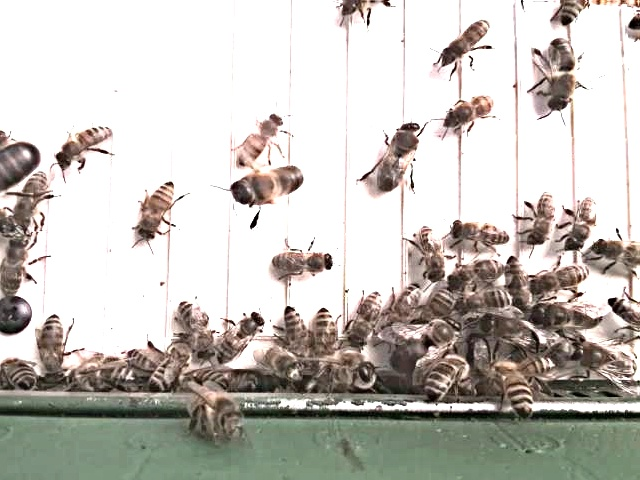Drone: (391, 312, 463, 376), (374, 115, 424, 195), (229, 160, 310, 208), (539, 33, 583, 113), (569, 335, 640, 377), (530, 297, 606, 332)
Worker: (57, 119, 118, 168), (236, 107, 286, 166), (220, 308, 268, 363), (138, 175, 178, 240), (176, 297, 218, 357), (494, 356, 535, 416), (443, 15, 494, 63), (348, 285, 385, 348), (449, 213, 510, 250), (413, 222, 449, 283), (566, 192, 601, 254), (442, 90, 498, 128), (590, 229, 640, 271), (530, 260, 594, 292), (282, 301, 314, 365), (0, 233, 32, 297), (18, 169, 54, 225), (38, 310, 68, 377), (528, 187, 561, 246), (270, 246, 338, 274), (502, 252, 532, 312), (313, 305, 340, 364)
